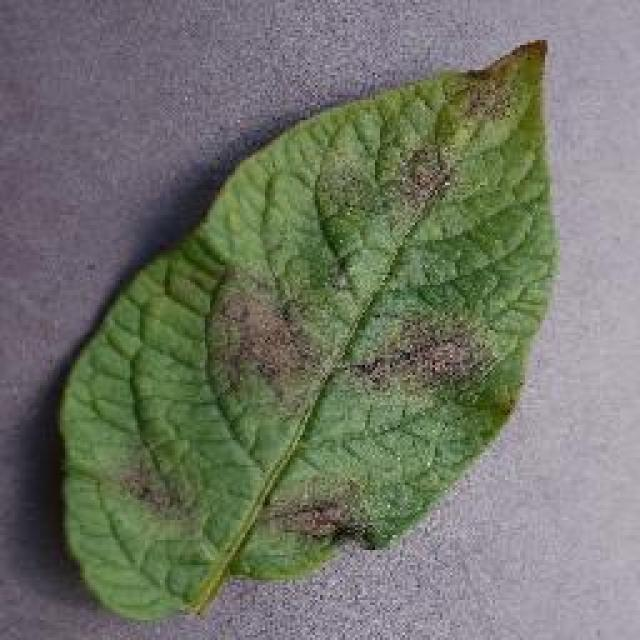late_blight: (52, 32, 562, 622)
